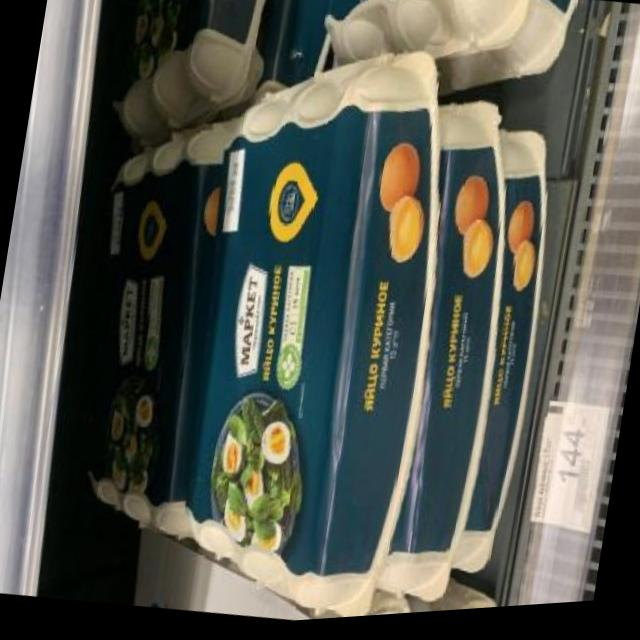Egg: (133, 12, 493, 633), (358, 90, 536, 617), (46, 111, 245, 556), (134, 0, 280, 130)
